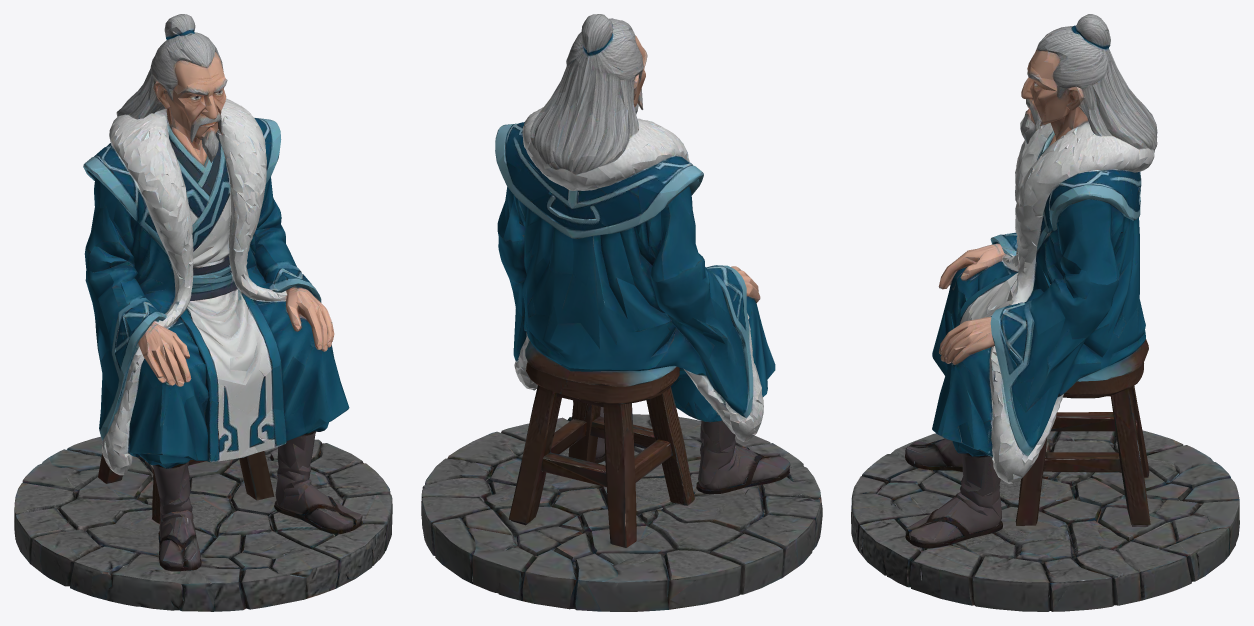
File: pakku.glb
The picture shows the model from 3 angles, left to right: view 1: azimuth 30°, elevation 25°; view 2: azimuth 150°, elevation 25°; view 3: azimuth 270°, elevation 25°; orthographic projection. The views are drawn at different scales.
Visible parts, largest first — view 1: Mesh_0; view 2: Mesh_0; view 3: Mesh_0.
Boxes of the visible parts, x1,y1,x2,y2 form: Mesh_0: (14, 14, 392, 611); Mesh_0: (421, 14, 822, 611); Mesh_0: (851, 14, 1239, 611).
Bounding box in the file's own units: 1.31 × 1.9 × 1.3.
Materials: 1 (1 with a texture image).
